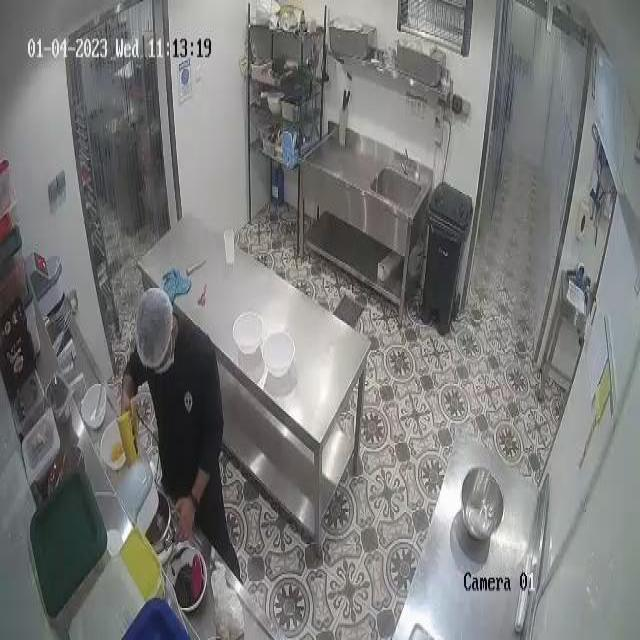hairnet: (136, 286, 171, 362)
